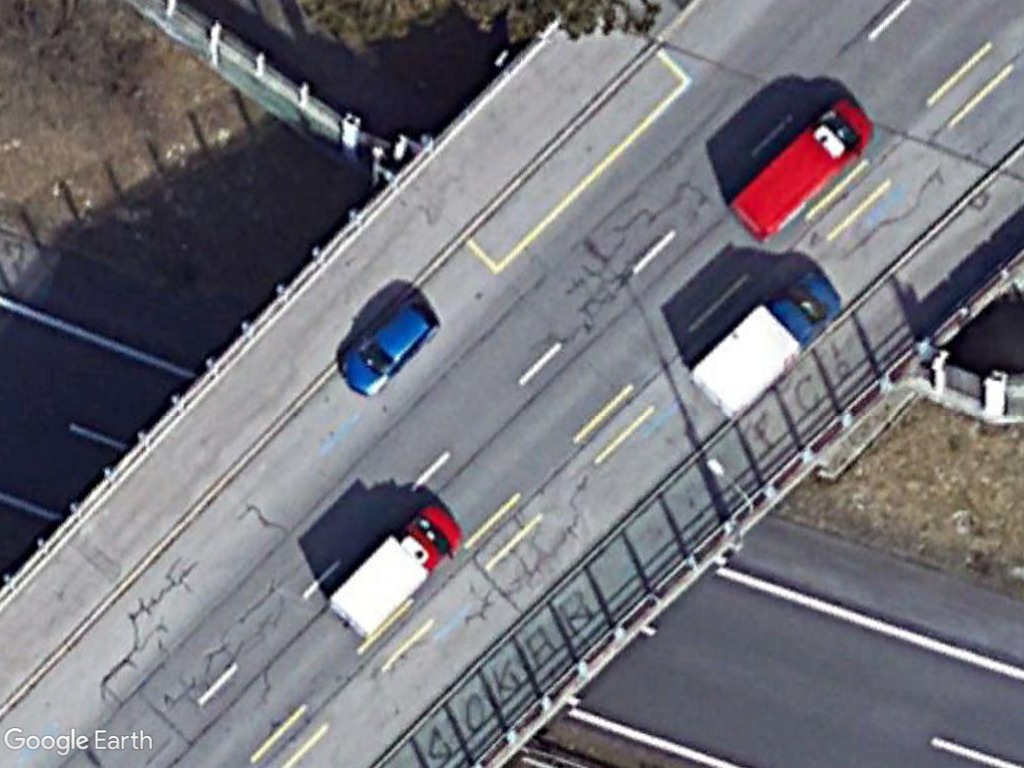car: (341, 298, 444, 399)
truck: (691, 271, 845, 424), (330, 501, 466, 641)
van: (732, 98, 876, 242)
